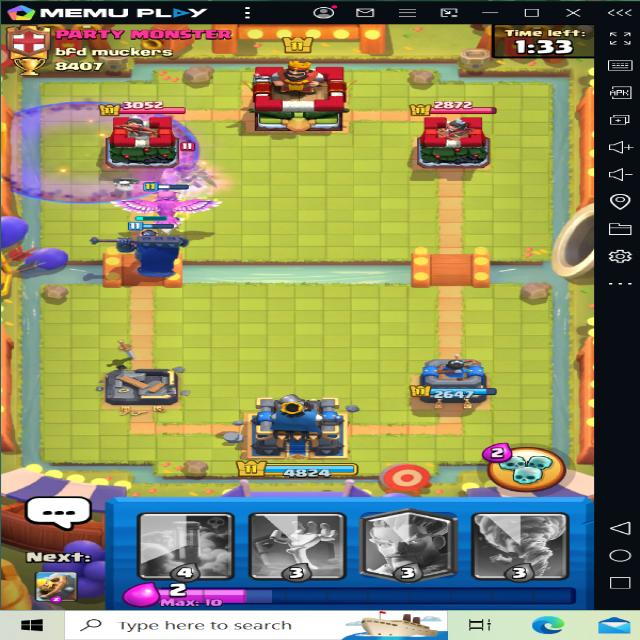Queen: (159, 137, 232, 192)
Queenability: (168, 141, 248, 187)
